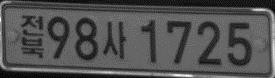1: (139, 19, 162, 62)
2: (197, 21, 221, 64)
5: (227, 21, 252, 66)
7: (166, 20, 192, 63)
8: (74, 16, 99, 60)
9: (46, 15, 70, 59)
사: (103, 21, 126, 59)
전북_V: (21, 14, 44, 58)
